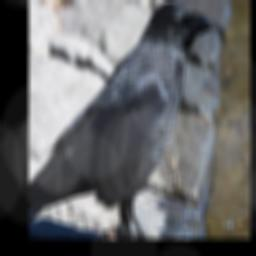Crow: (30, 0, 216, 239)
